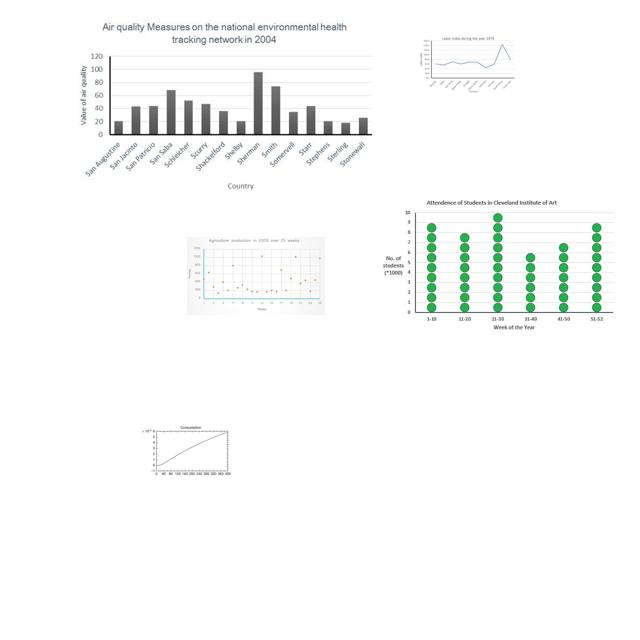Graph: (73, 16, 378, 194), (378, 196, 618, 335), (187, 237, 325, 315), (139, 423, 236, 481), (419, 36, 516, 93)
